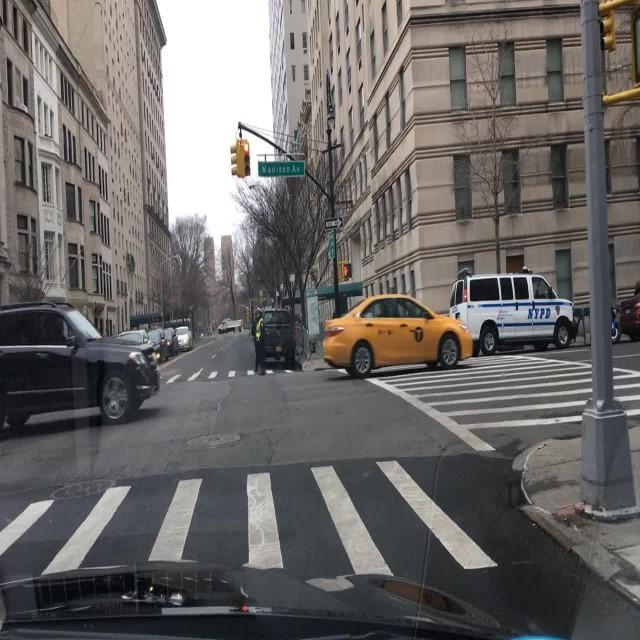normal: (0, 300, 155, 427), (322, 297, 476, 380), (445, 272, 576, 356), (113, 331, 163, 364), (618, 288, 640, 342), (174, 327, 194, 352), (216, 318, 240, 334)
